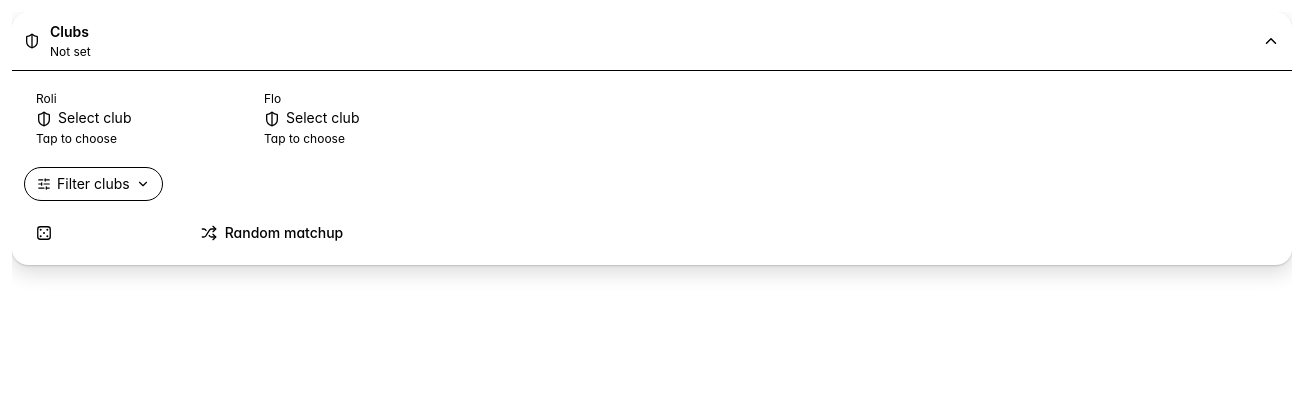
it: SelectClubsPanel (T9 — one self-contained panel) › reaches the star/league filters without opening a club
Click the button "Filter clubs".
click(93, 184)  # box [24,167,163,201]
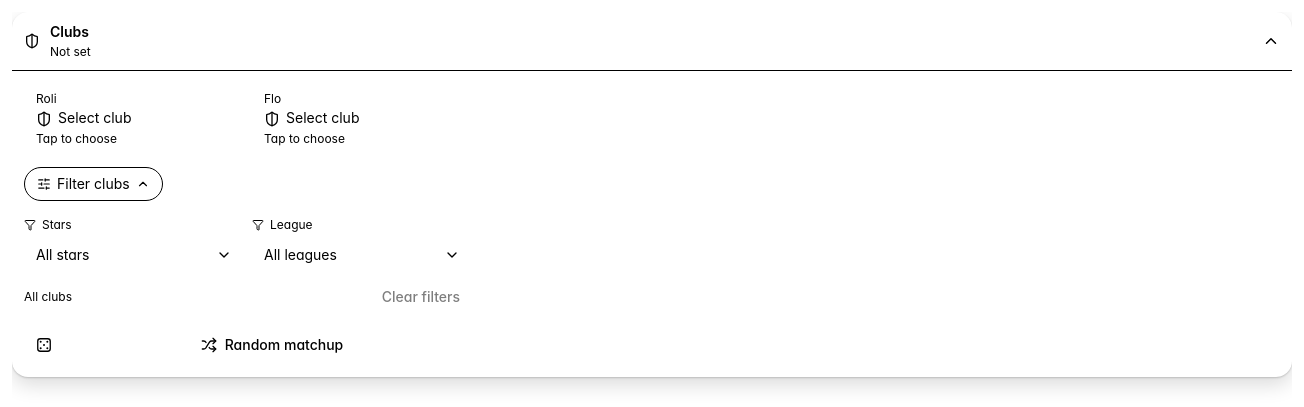
Now the button "Filter clubs" is expanded, box [24,167,163,201]
Now the button with aria-label "Filter by stars" is shown, box [24,237,244,273]
Now the button with aria-label "Filter by league" is shown, box [252,237,472,273]
